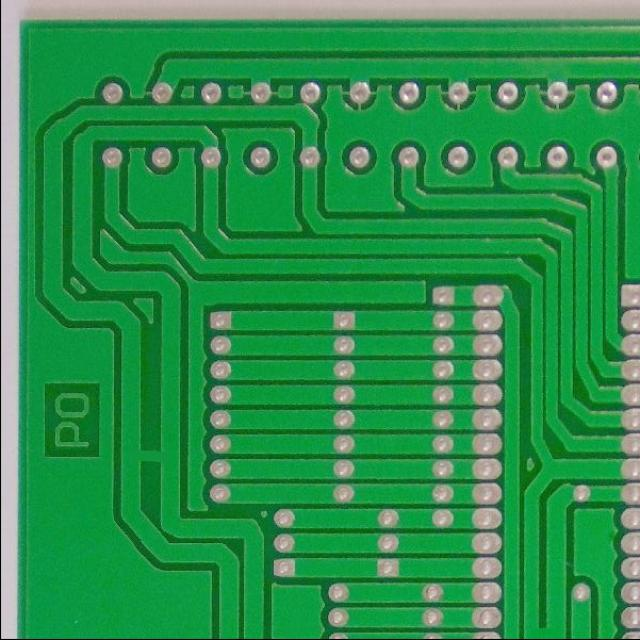Short_Circuit: (116, 437, 184, 475), (520, 615, 572, 639)
